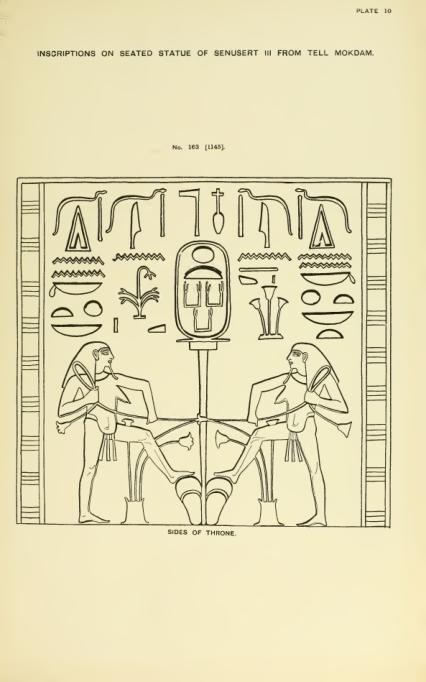circle: (171, 237, 234, 345)
